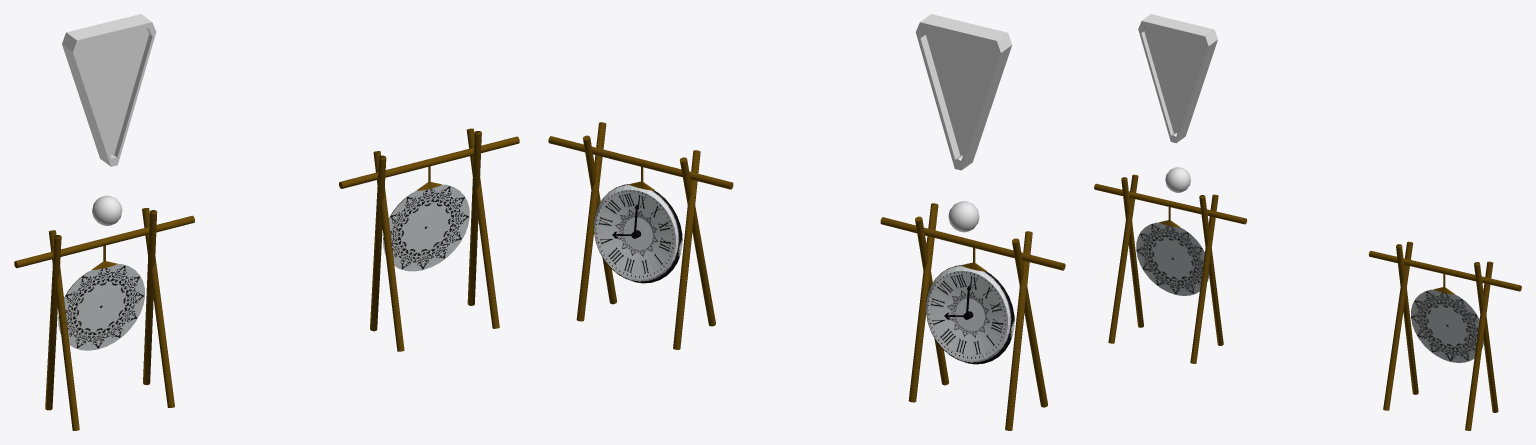
File: clock.fbx
The picture shows the model from 3 angles, left to right: view 1: azimuth 30°, elevation 25°; view 2: azimuth 150°, elevation 25°; view 3: azimuth 330°, elevation 25°; orthographic projection. The views are drawn at different scales.
Parts seen in each view (by area): view 1: Plane, Circle, Circle.003, Cylinder, Cylinder.004, Cylinder.007, Cylinder.003, Cylinder.002, Cylinder.001, Cylinder.005, Cylinder.006, Sphere.002; view 2: Plane, Circle, Circle.003, Cylinder, Cylinder.004, Cylinder.007, Cylinder.003, Cylinder.005, Cylinder.001, Cylinder.006, Sphere.002, Cylinder.002; view 3: Plane, Circle.003, Circle, Cylinder, Cylinder.004, Cylinder.005, Cylinder.001, Cylinder.002, Cylinder.006, Cylinder.003, Cylinder.007, Sphere.002.
Boxes of the visible parts, bbox=[...] form: Plane: bbox=[62, 14, 156, 166]; Circle: bbox=[383, 184, 469, 271]; Circle.003: bbox=[58, 263, 144, 350]; Cylinder: bbox=[370, 131, 481, 331]; Cylinder.004: bbox=[45, 210, 157, 410]; Cylinder.007: bbox=[14, 215, 194, 268]; Cylinder.003: bbox=[339, 136, 519, 188]; Cylinder.002: bbox=[466, 128, 499, 328]; Cylinder.001: bbox=[373, 151, 404, 351]; Cylinder.005: bbox=[48, 230, 79, 430]; Cylinder.006: bbox=[142, 208, 174, 407]; Sphere.002: bbox=[92, 195, 122, 225]; Plane: bbox=[915, 14, 1012, 170]; Circle: bbox=[594, 184, 682, 283]; Circle.003: bbox=[926, 265, 1014, 364]; Cylinder: bbox=[576, 122, 700, 349]; Cylinder.004: bbox=[908, 203, 1032, 430]; Cylinder.007: bbox=[880, 217, 1065, 270]; Cylinder.003: bbox=[548, 136, 733, 189]; Cylinder.005: bbox=[1012, 238, 1047, 407]; Cylinder.001: bbox=[680, 157, 715, 326]; Cylinder.006: bbox=[915, 216, 949, 385]; Sphere.002: bbox=[948, 201, 979, 232]; Cylinder.002: bbox=[583, 135, 616, 304]; Plane: bbox=[1138, 14, 1217, 143]; Circle.003: bbox=[1136, 222, 1208, 295]; Circle: bbox=[1411, 289, 1483, 362]; Cylinder: bbox=[1396, 244, 1498, 412]; Cylinder.004: bbox=[1121, 177, 1223, 345]; Cylinder.005: bbox=[1108, 174, 1138, 343]; Cylinder.001: bbox=[1383, 241, 1413, 410]; Cylinder.002: bbox=[1465, 261, 1493, 430]; Cylinder.006: bbox=[1190, 194, 1218, 363]; Cylinder.003: bbox=[1368, 251, 1521, 291]; Cylinder.007: bbox=[1094, 183, 1247, 224]; Sphere.002: bbox=[1165, 167, 1190, 192].
Size of the model in its own units: 721 by 515 by 86.42.
